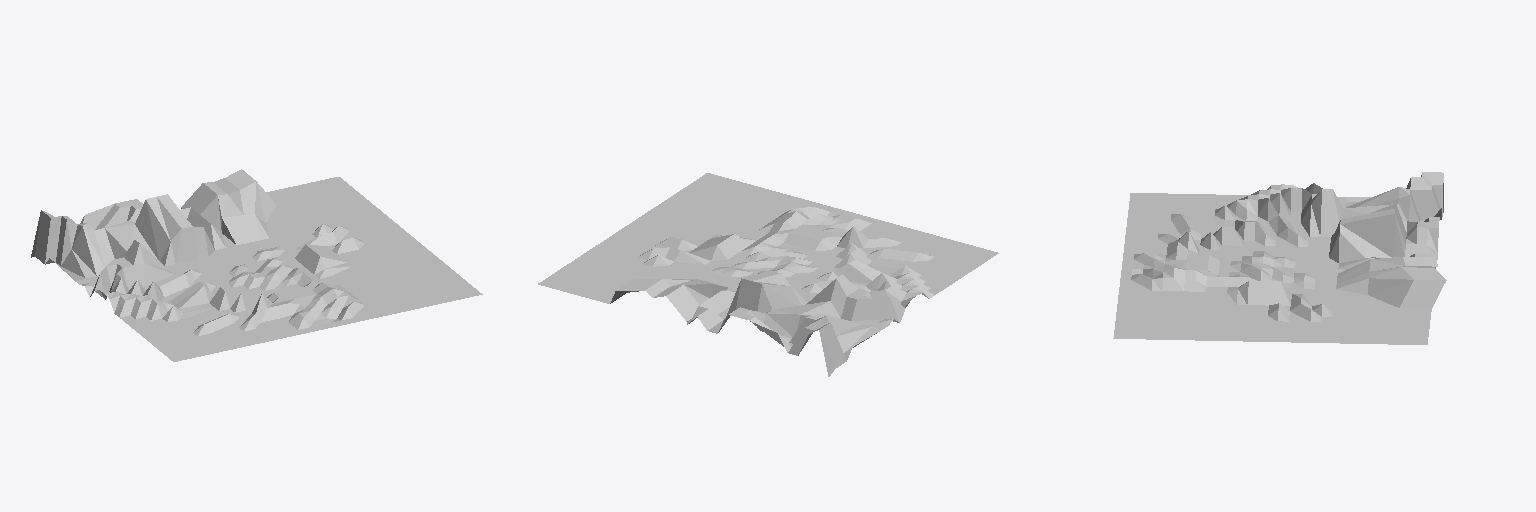
The model's file is Floor.obj.
3 renders of one model, left to right at view 1: azimuth 30°, elevation 25°; view 2: azimuth 150°, elevation 25°; view 3: azimuth 270°, elevation 25°, orthographic.
Visible parts, largest first — view 1: SnowmanSueloT:snowfloor; view 2: SnowmanSueloT:snowfloor; view 3: SnowmanSueloT:snowfloor.
Part boxes in pixels (x1,y1,x2,y2): SnowmanSueloT:snowfloor: (31,169,482,361); SnowmanSueloT:snowfloor: (538,173,998,376); SnowmanSueloT:snowfloor: (1113,172,1446,344).
Size of the model in its own units: 111 by 18.48 by 102.